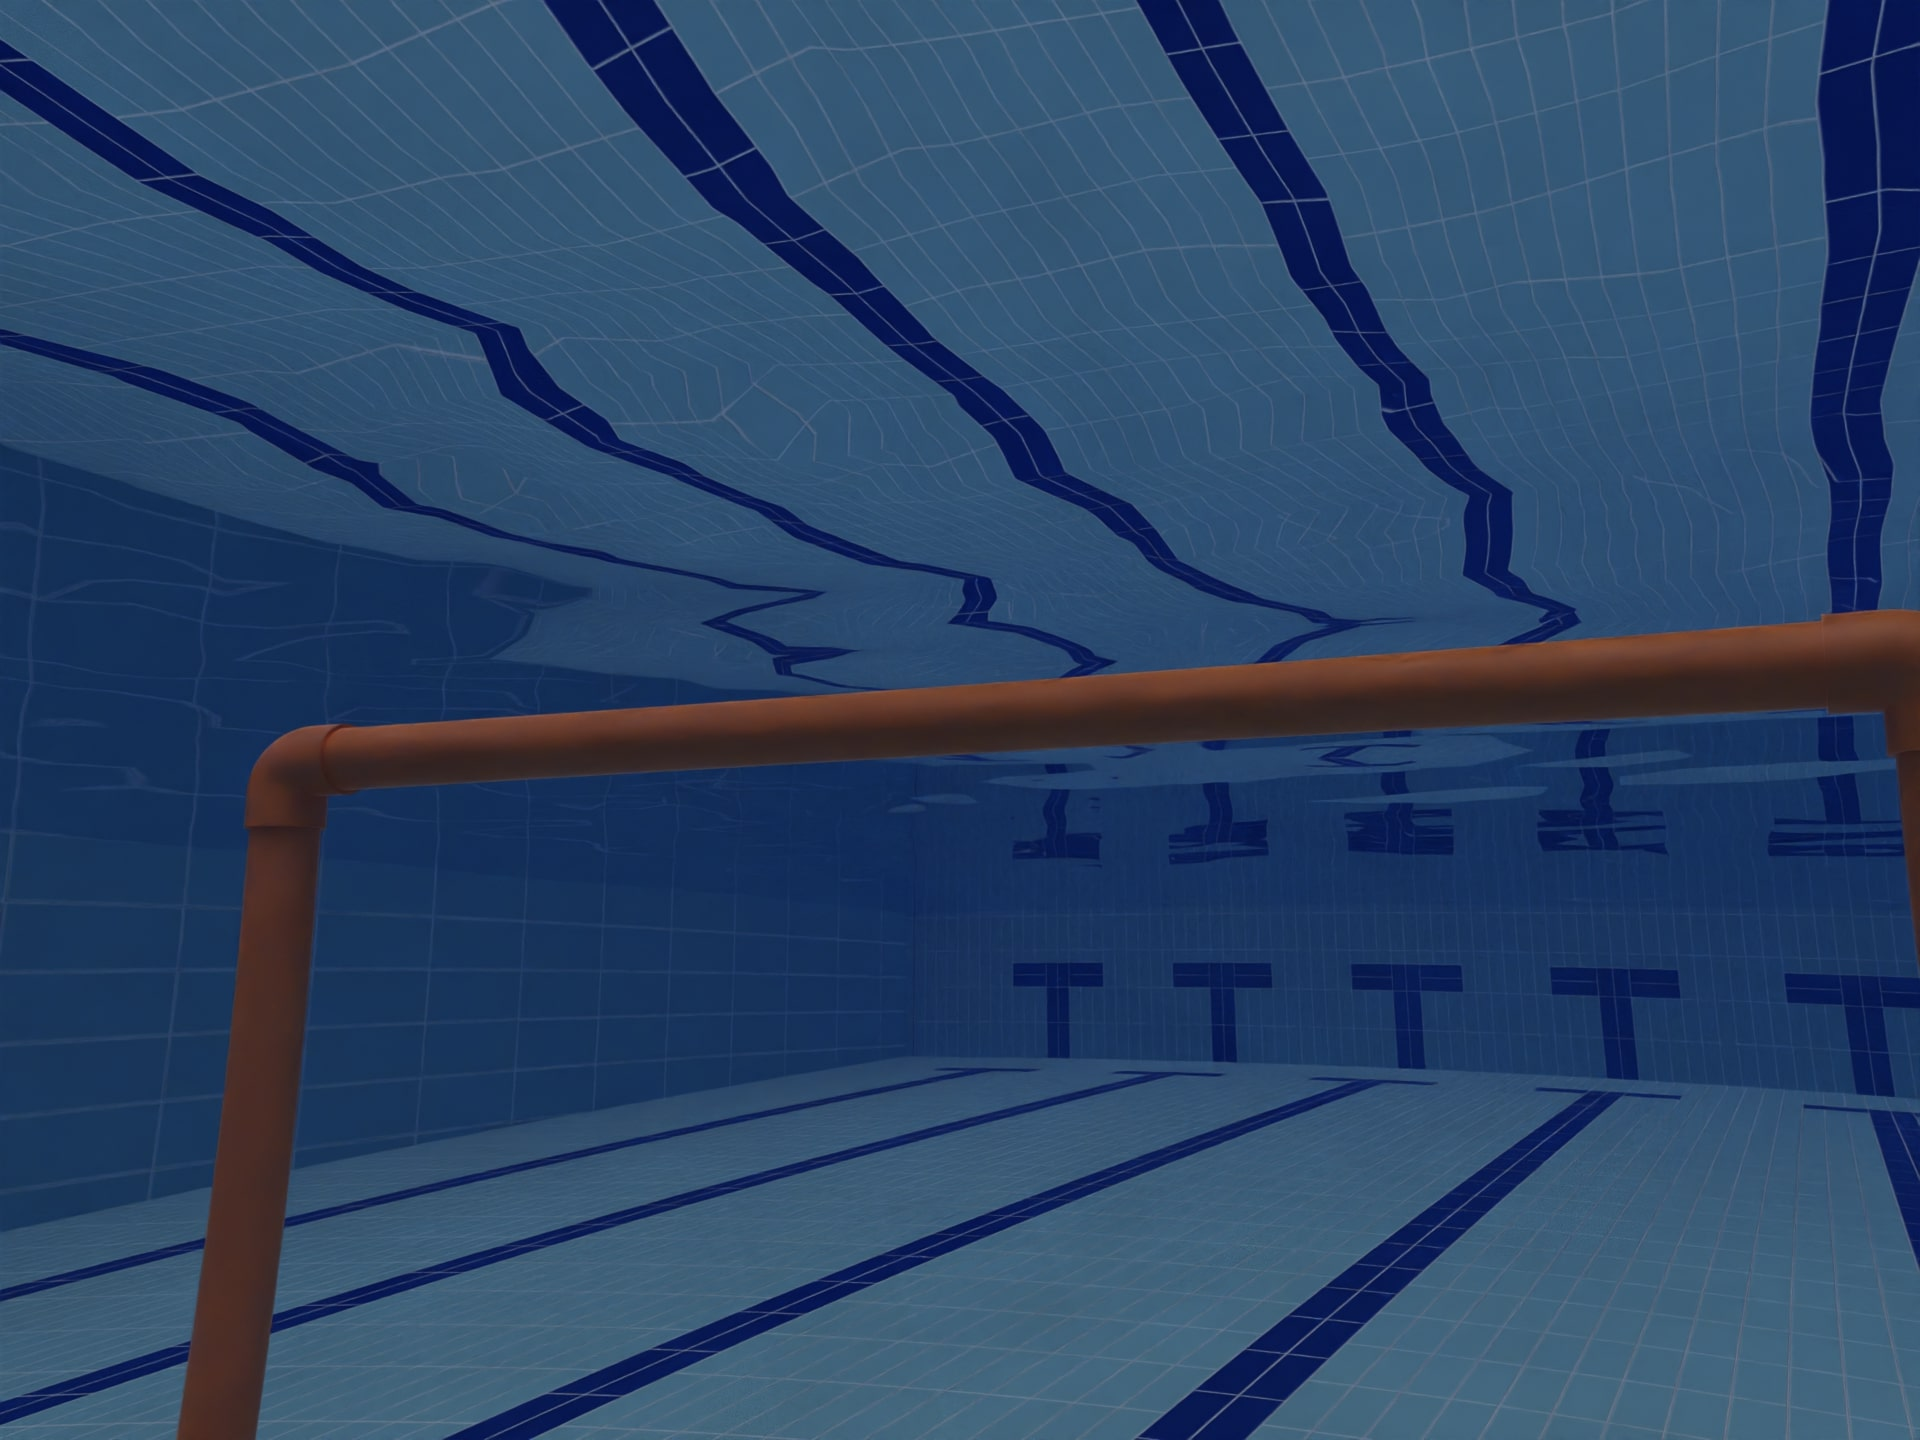gate: (194, 581, 1920, 1440)
